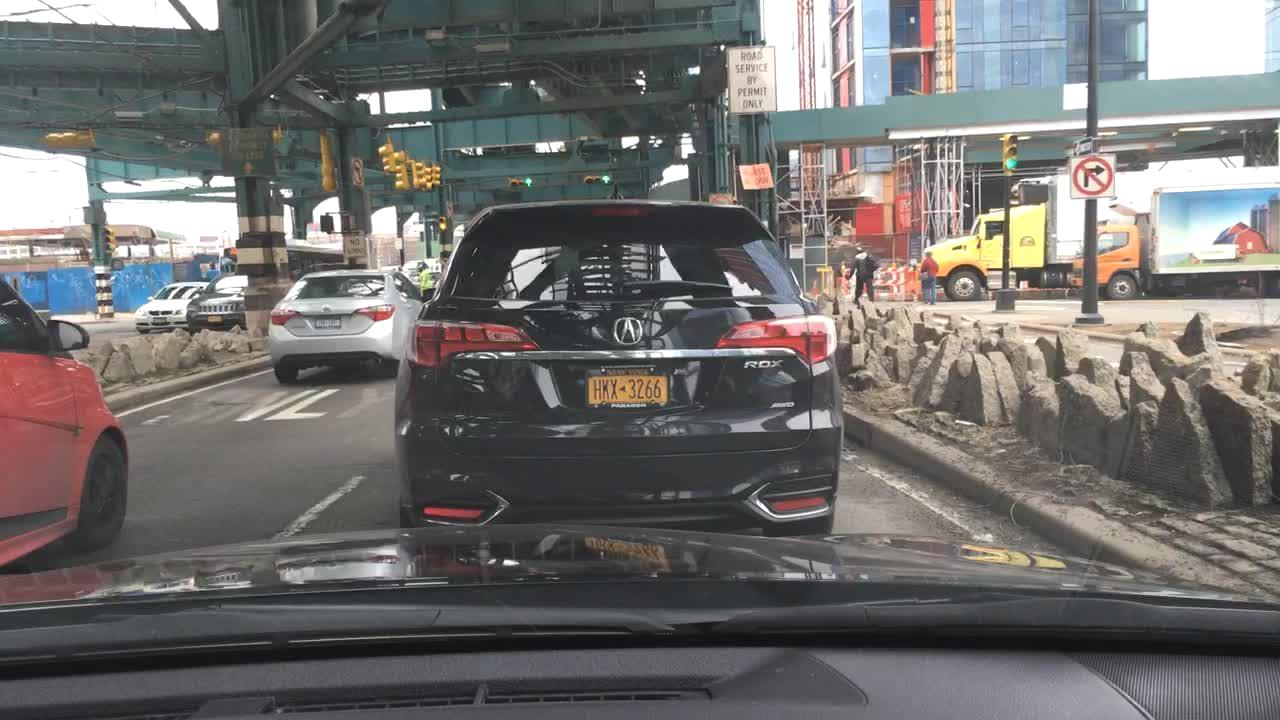acura: (610, 313, 647, 350)
